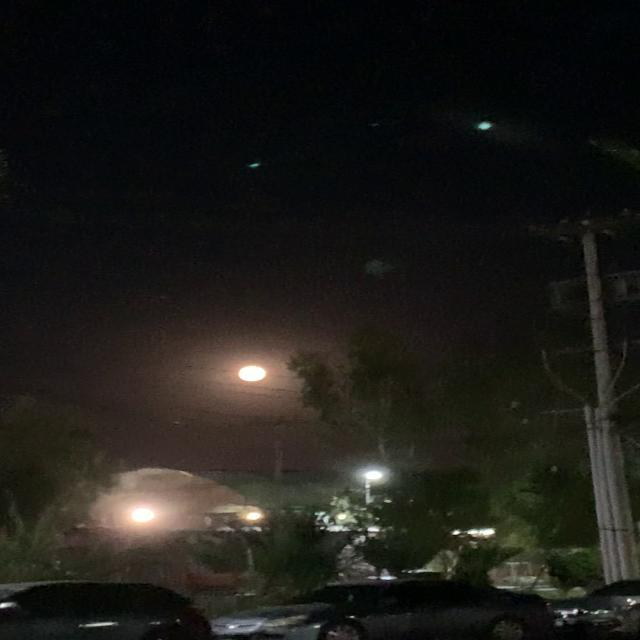moon: (228, 357, 280, 382)
